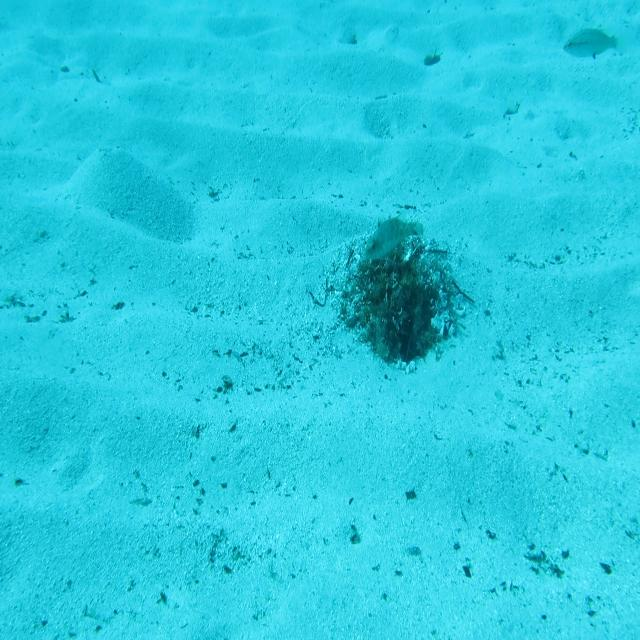BEND: (361, 208, 433, 264)
female: (560, 22, 622, 60)
nest: (342, 222, 467, 366)
